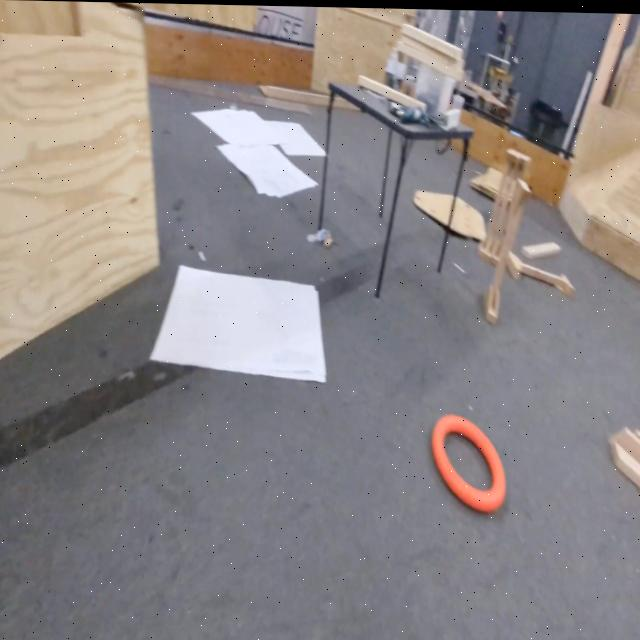note: (430, 412, 504, 511)
